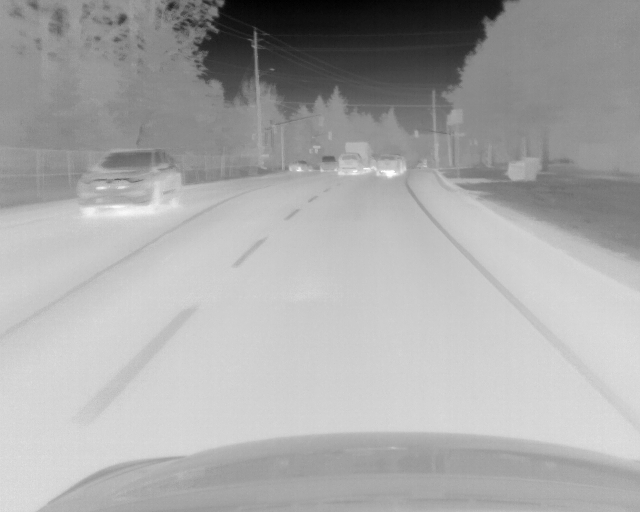car: (75, 150, 181, 214), (343, 140, 373, 170), (376, 153, 407, 177), (339, 152, 365, 175), (288, 160, 311, 172), (320, 156, 337, 171)
